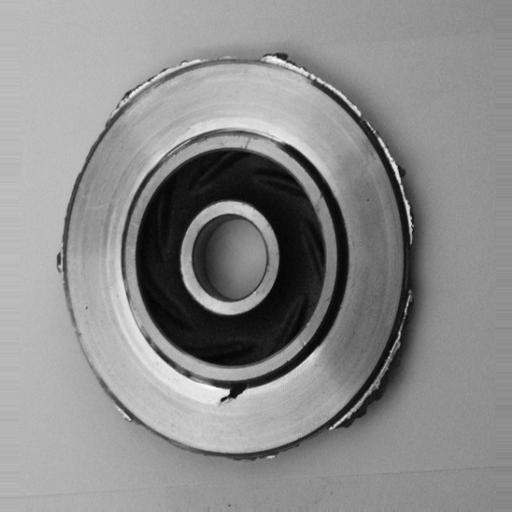casting_with_burr: (52, 48, 422, 466)
crack: (209, 375, 260, 409)
scratch: (109, 270, 149, 345)
